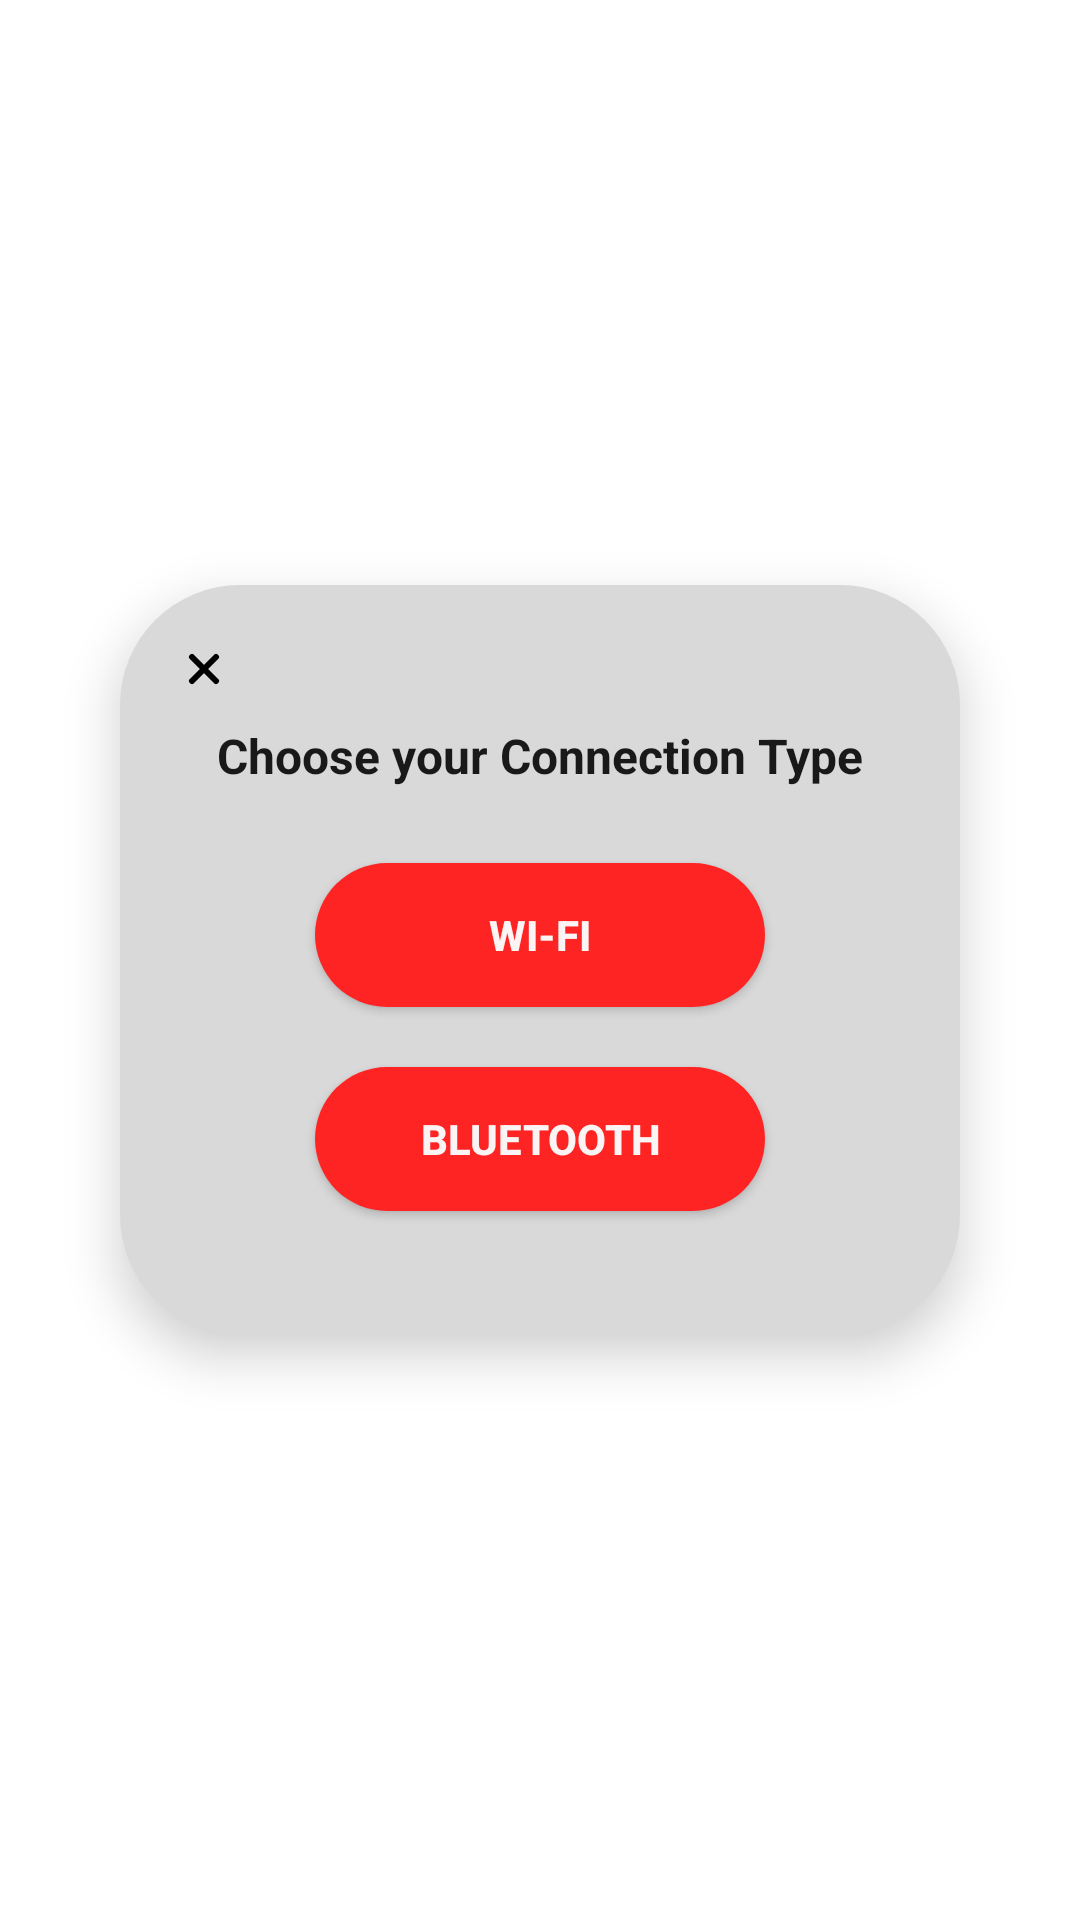

Locate icon controls on the screen. Image size 1080×1920, boxes as (x1, y1, x2, y2).
close: (189, 654, 219, 684)
